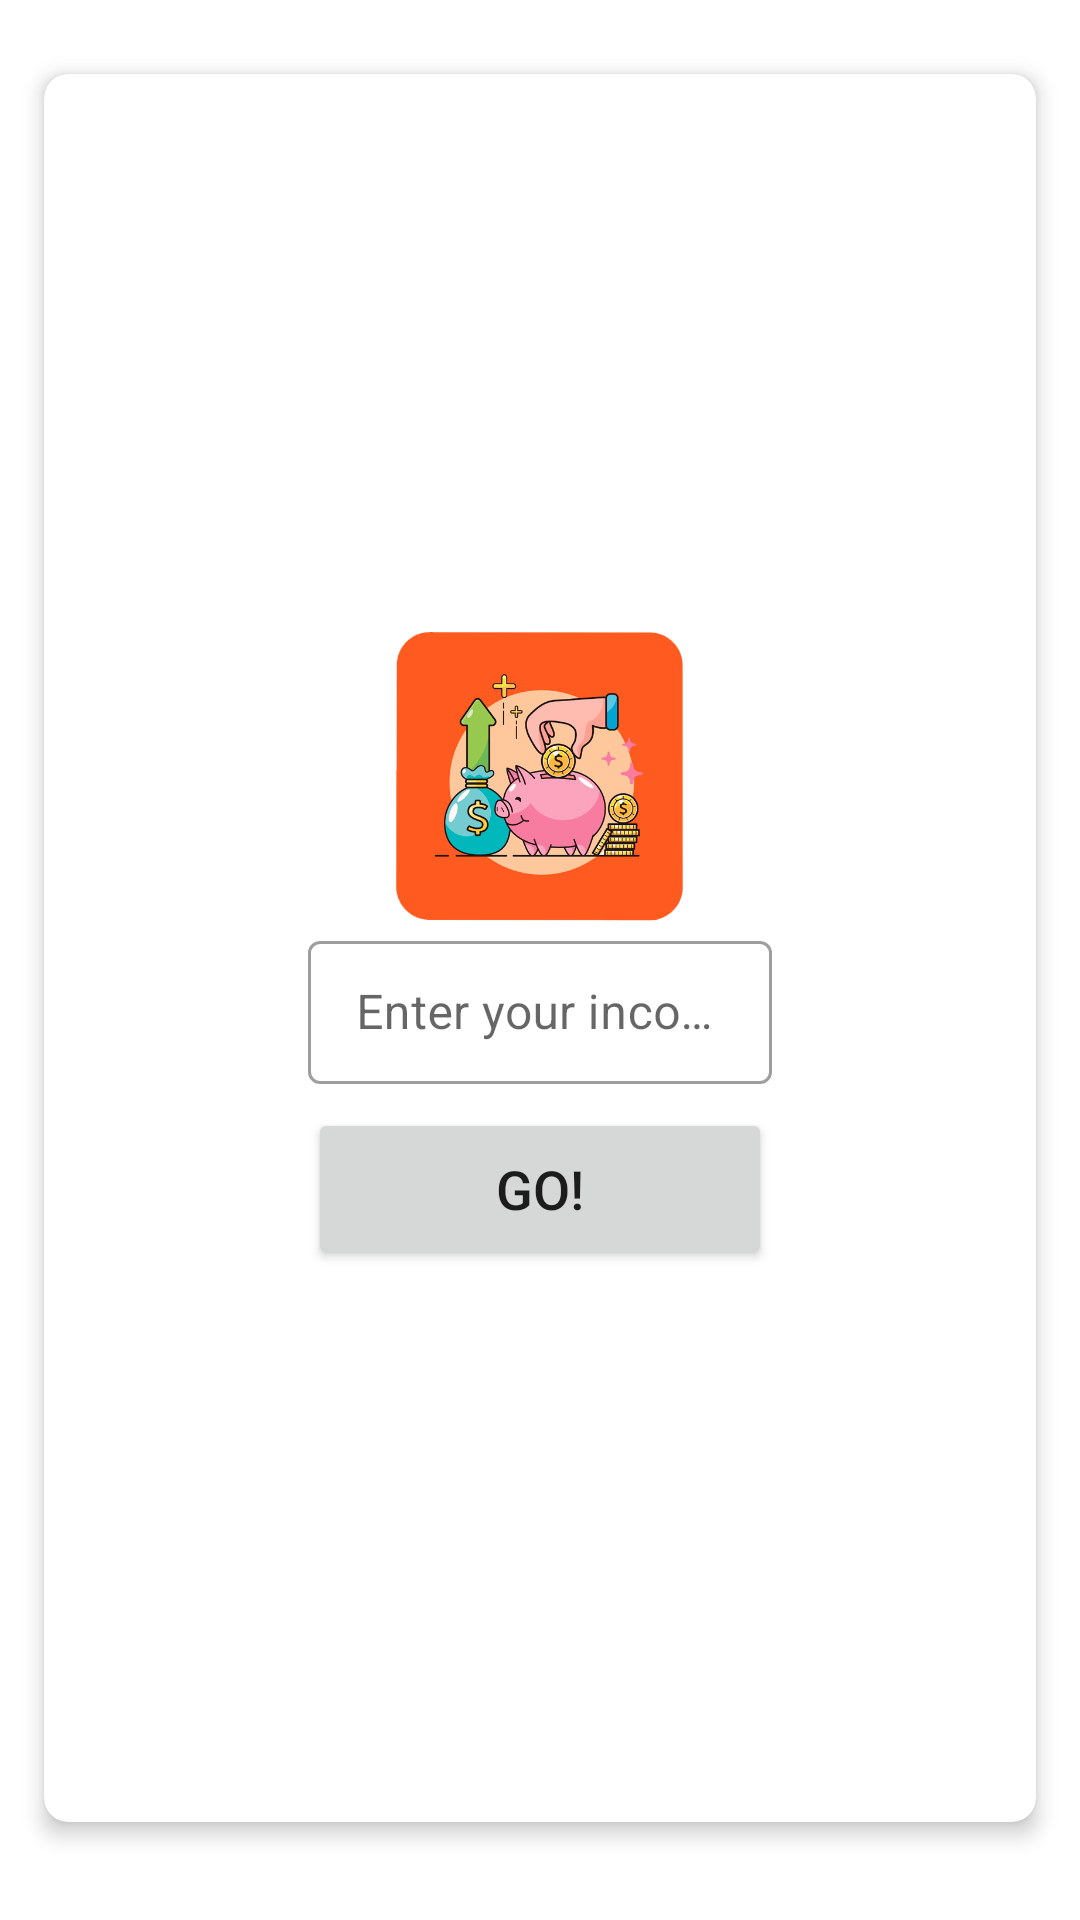

Icon click points for this 1080*1920 phone screenshot, format [x,y]:
Main Icon: [539,776]
